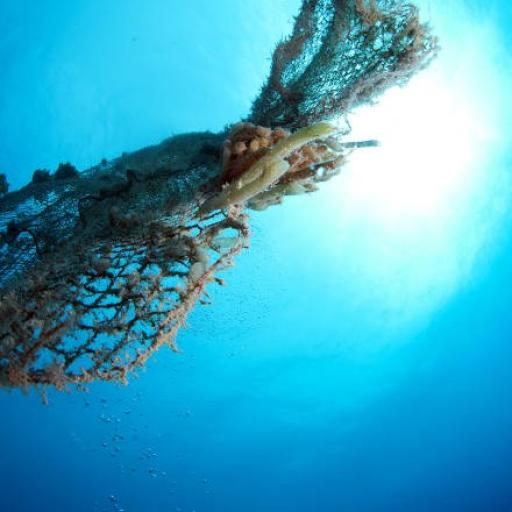net: (1, 3, 449, 407)
